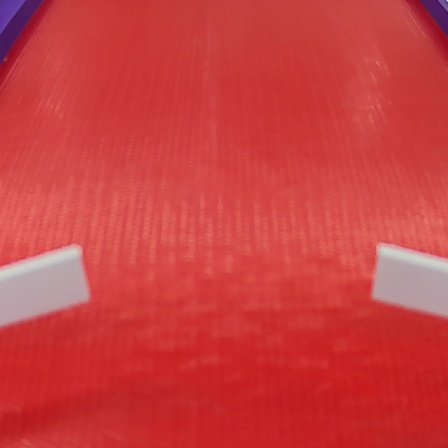red_aim: (2, 1, 448, 448)
